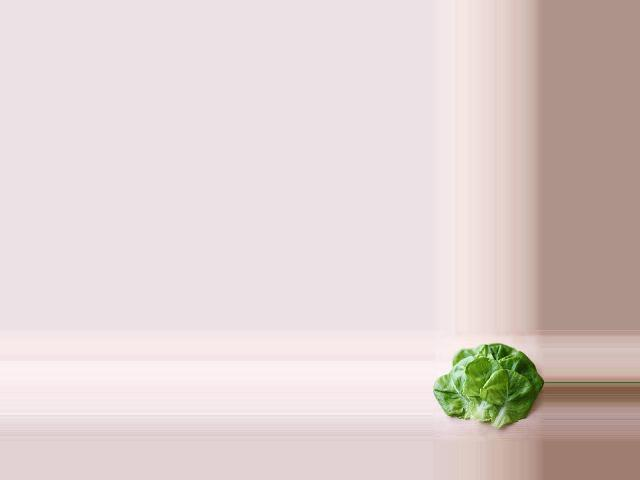lettuce: (436, 343, 541, 424)
